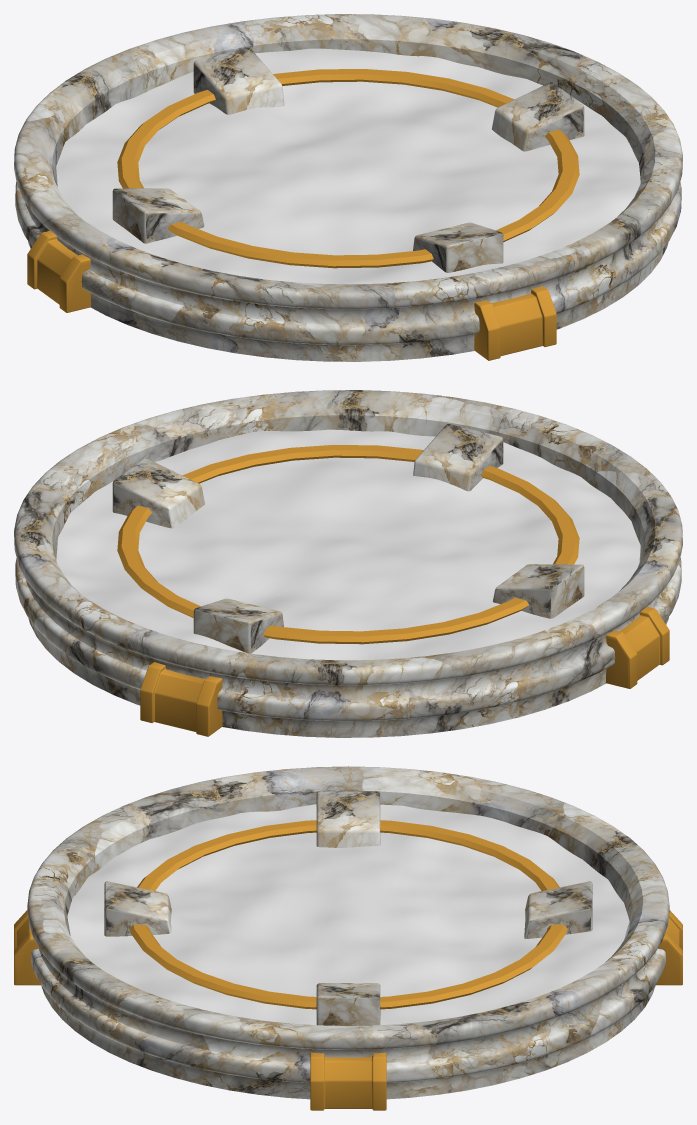
File: Fountain planet.fbx
3 views of the same model, one above another, from view 1: azimuth 30°, elevation 25°; view 2: azimuth 150°, elevation 25°; view 3: azimuth 270°, elevation 25° (orthographic). The views are drawn at different scales.
Visible parts, largest first — view 1: Water, Circle, Circle.001, Cube.002, Cube.003, Cube.001, Cube; view 2: Water, Circle, Circle.001, Cube.002, Cube.003, Cube.001, Cube; view 3: Water, Circle, Circle.001, Cube.002, Cube.003, Cube, Cube.001.
Part boxes in pixels (x1,y1,x2,y2): Water: (56,48,640,284); Circle: (14,14,682,361); Circle.001: (117,69,579,268); Cube.002: (112,82,584,243); Cube.003: (193,48,503,272); Cube.001: (474,286,556,360); Cube: (27,230,90,312); Water: (56,429,640,660); Circle: (14,390,682,737); Circle.001: (117,445,579,644); Cube.002: (112,458,584,618); Cube.003: (193,424,503,653); Cube.001: (140,662,222,736); Cube: (606,606,669,688); Water: (67,804,629,1025); Circle: (27,766,669,1099); Circle.001: (129,820,567,1009); Cube.002: (316,791,380,1025); Cube.003: (104,881,592,938); Cube: (310,1052,386,1110); Cube.001: (14,910,682,985).
Bounding box in the file's own units: 8.31 × 1.04 × 8.31.
